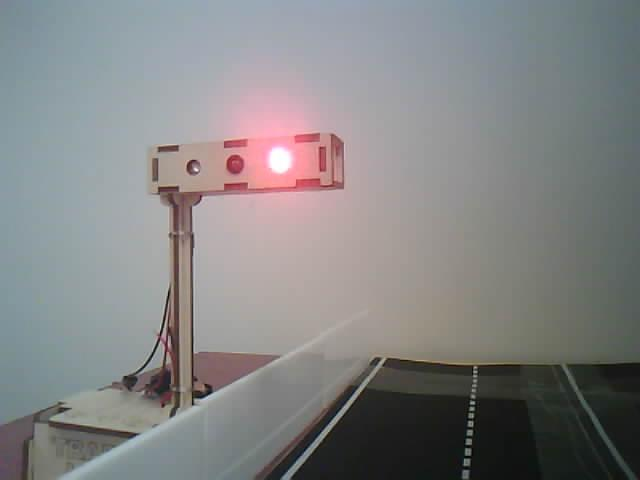red: (131, 129, 352, 394)
